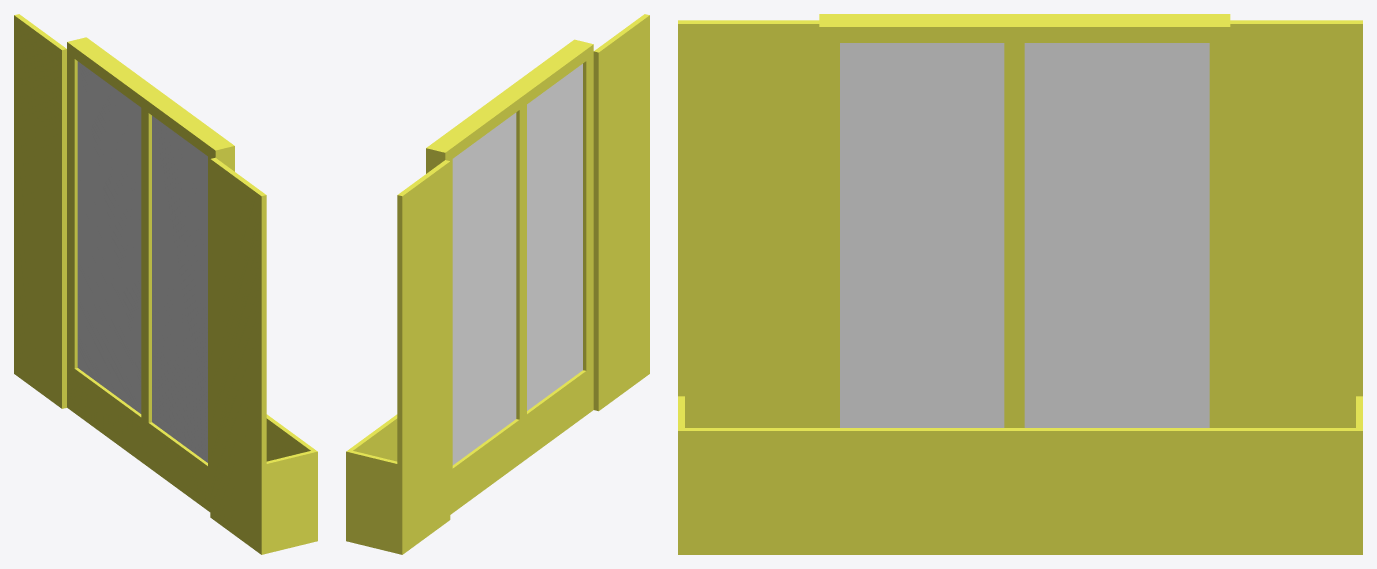
Rendered from End.fbx.
3 views of the same model, side by side, from view 1: azimuth 30°, elevation 25°; view 2: azimuth 150°, elevation 25°; view 3: azimuth 270°, elevation 25° (orthographic). The views are drawn at different scales.
Parts seen in each view (by area): view 1: Окружность.007; view 2: Окружность.007; view 3: Окружность.007.
Boxes of the visible parts, x1,y1,x2,y2 form: Окружность.007: (14,14,317,554); Окружность.007: (346,14,649,554); Окружность.007: (678,14,1362,554).
Bounding box in the file's own units: 65.73 × 408 × 500.
